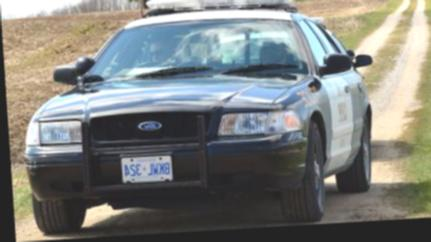License_Plate: (123, 152, 175, 182)
